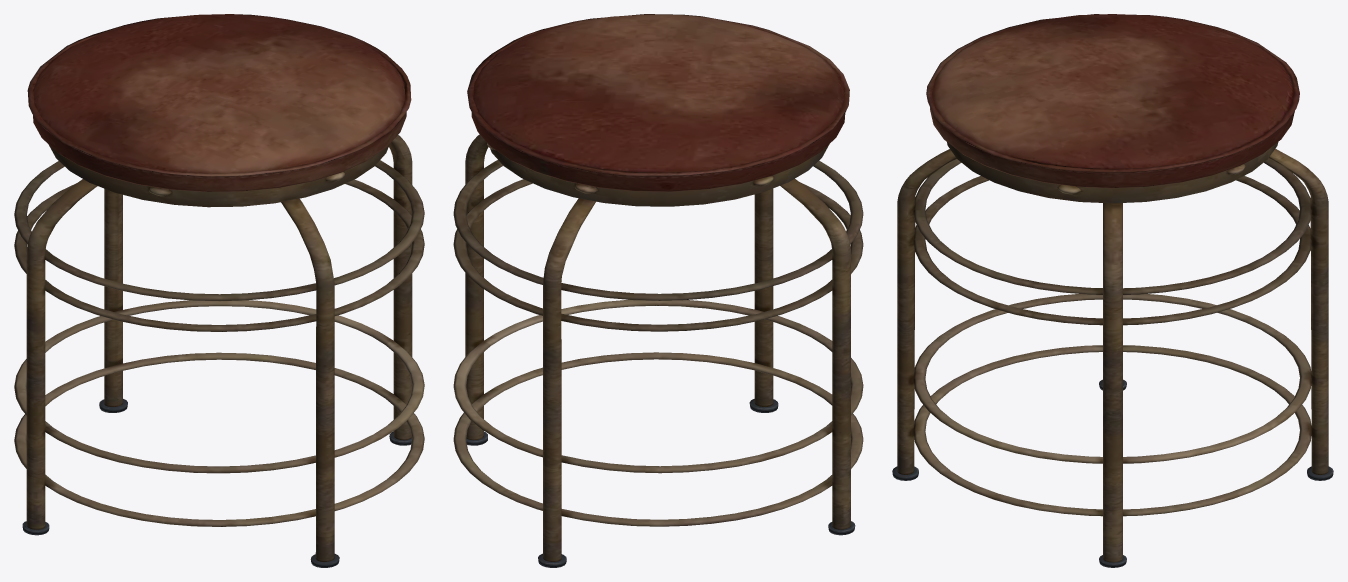
Rendered from ph-metal-stool-01.glb.
3 renders of one model, left to right at view 1: azimuth 30°, elevation 25°; view 2: azimuth 150°, elevation 25°; view 3: azimuth 270°, elevation 25°, orthographic. The views are drawn at different scales.
Parts seen in each view (by area): view 1: metal_stool_01; view 2: metal_stool_01; view 3: metal_stool_01.
Boxes of the visible parts, left/top/right/bottom form: metal_stool_01: left=14, top=14, right=424, bottom=567; metal_stool_01: left=453, top=14, right=863, bottom=567; metal_stool_01: left=892, top=14, right=1333, bottom=567.
Bounding box in the file's own units: 1 × 0.9995 × 1.
Materials: 1 (1 with a texture image).
